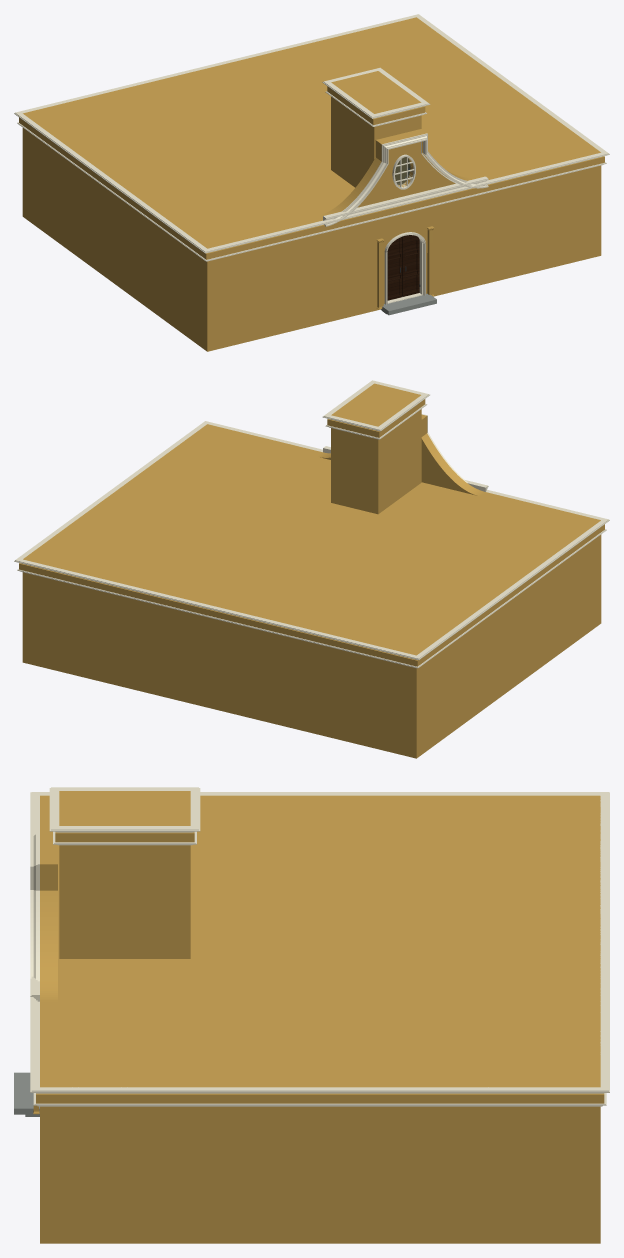
The model's file is building.glb.
The picture shows the model from 3 angles, top to bottom: view 1: azimuth 30°, elevation 25°; view 2: azimuth 150°, elevation 25°; view 3: azimuth 270°, elevation 25°; orthographic projection. The views are drawn at different scales.
Visible parts, largest first — view 1: roof/house:0/roof_slab#0001, house:0/edge0/z0/house:0/edge0/z0/wall_0_0, house:0/edge3/z0/house:0/edge3/z0/wall_0_0, entablature/entablamento/2/entablature_cornice#0001, entablature/entablamento/1/entablature_frieze#0001, crown/coronamiento/crown_body#0001, torre:0/edge3/z4/torre:0/edge3/z4/wall_0_0, roof/torre:0/roof_slab#0001, house:0/edge2/z0/house:0/edge2/z0/wall_0_0, entablature/entablamento/0/entablature_architrave#0001, crown/coronamiento/crown_moulding#0001, house:0/edge1/z0/house:0/edge1/z0/wall_0_0 (+5 smaller); view 2: roof/house:0/roof_slab#0001, house:0/edge2/z0/house:0/edge2/z0/wall_0_0, house:0/edge3/z0/house:0/edge3/z0/wall_0_0, entablature/entablamento/2/entablature_cornice#0001, entablature/entablamento/1/entablature_frieze#0001, torre:0/edge2/z4/torre:0/edge2/z4/wall_0_0, torre:0/edge3/z4/torre:0/edge3/z4/wall_0_0, roof/torre:0/roof_slab#0001, crown/coronamiento/crown_body#0001, entablature/entablamento/0/entablature_architrave#0001, house:0/edge1/z0/house:0/edge1/z0/wall_0_0, entablature/entablamento/5/entablature_cornice#0001 (+3 smaller); view 3: roof/house:0/roof_slab#0001, house:0/edge1/z0/house:0/edge1/z0/wall_0_0, torre:0/edge1/z4/torre:0/edge1/z4/wall_0_0, entablature/entablamento/2/entablature_cornice#0001, entablature/entablamento/1/entablature_frieze#0001, roof/torre:0/roof_slab#0001, house:0/edge2/z0/house:0/edge2/z0/wall_0_0, crown/coronamiento/crown_body#0001, entablature/entablamento/5/entablature_cornice#0001, entablature/entablamento/0/entablature_architrave#0001, house:0/edge0/z0/house:0/edge0/z0/wall_0_0, house:0/edge3/z0/house:0/edge3/z0/wall_0_0 (+6 smaller).
Boxes of the visible parts, box(x1,y1,x2,y2) form: roof/house:0/roof_slab#0001: box(27, 19, 597, 248); house:0/edge0/z0/house:0/edge0/z0/wall_0_0: box(204, 150, 601, 351); house:0/edge3/z0/house:0/edge3/z0/wall_0_0: box(22, 112, 212, 351); entablature/entablamento/2/entablature_cornice#0001: box(14, 14, 609, 253); entablature/entablamento/1/entablature_frieze#0001: box(19, 117, 604, 259); crown/coronamiento/crown_body#0001: box(317, 129, 480, 219); torre:0/edge3/z4/torre:0/edge3/z4/wall_0_0: box(331, 82, 378, 187); roof/torre:0/roof_slab#0001: box(334, 71, 418, 112); house:0/edge2/z0/house:0/edge2/z0/wall_0_0: box(22, 17, 418, 217); entablature/entablamento/0/entablature_architrave#0001: box(17, 122, 606, 261); crown/coronamiento/crown_moulding#0001: box(324, 133, 488, 226); house:0/edge1/z0/house:0/edge1/z0/wall_0_0: box(412, 17, 601, 256); roof/house:0/roof_slab#0001: box(30, 424, 600, 652); house:0/edge2/z0/house:0/edge2/z0/wall_0_0: box(23, 557, 419, 758); house:0/edge3/z0/house:0/edge3/z0/wall_0_0: box(411, 520, 601, 757); entablature/entablamento/2/entablature_cornice#0001: box(14, 421, 609, 660); entablature/entablamento/1/entablature_frieze#0001: box(19, 524, 604, 666); torre:0/edge2/z4/torre:0/edge2/z4/wall_0_0: box(331, 413, 380, 514); torre:0/edge3/z4/torre:0/edge3/z4/wall_0_0: box(376, 395, 421, 512); roof/torre:0/roof_slab#0001: box(334, 384, 420, 426); crown/coronamiento/crown_body#0001: box(317, 415, 484, 496); entablature/entablamento/0/entablature_architrave#0001: box(17, 529, 606, 668); house:0/edge1/z0/house:0/edge1/z0/wall_0_0: box(22, 424, 211, 663); entablature/entablamento/5/entablature_cornice#0001: box(322, 380, 429, 431); roof/house:0/roof_slab#0001: box(40, 796, 600, 1087); house:0/edge1/z0/house:0/edge1/z0/wall_0_0: box(40, 1083, 600, 1243); torre:0/edge1/z4/torre:0/edge1/z4/wall_0_0: box(59, 822, 190, 958); entablature/entablamento/2/entablature_cornice#0001: box(30, 792, 609, 1093); entablature/entablamento/1/entablature_frieze#0001: box(36, 1093, 604, 1103); roof/torre:0/roof_slab#0001: box(59, 791, 190, 825); house:0/edge2/z0/house:0/edge2/z0/wall_0_0: box(592, 795, 600, 1243); crown/coronamiento/crown_body#0001: box(42, 830, 57, 1001); entablature/entablamento/5/entablature_cornice#0001: box(49, 787, 200, 832); entablature/entablamento/0/entablature_architrave#0001: box(33, 1093, 606, 1106); house:0/edge0/z0/house:0/edge0/z0/wall_0_0: box(40, 795, 48, 1243); house:0/edge3/z0/house:0/edge3/z0/wall_0_0: box(40, 795, 600, 799).
Bounding box in the file's own units: 16.44 × 7.46 × 13.82.
Materials: 7 (1 with a texture image).
